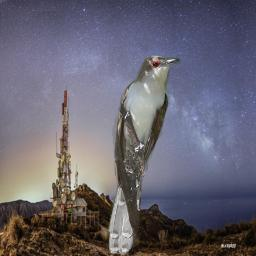Cuckoo: (106, 53, 181, 255)
